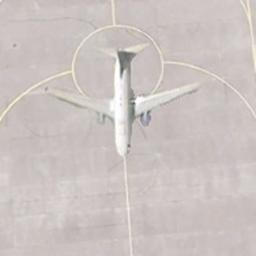Airplane: (38, 39, 206, 160)
